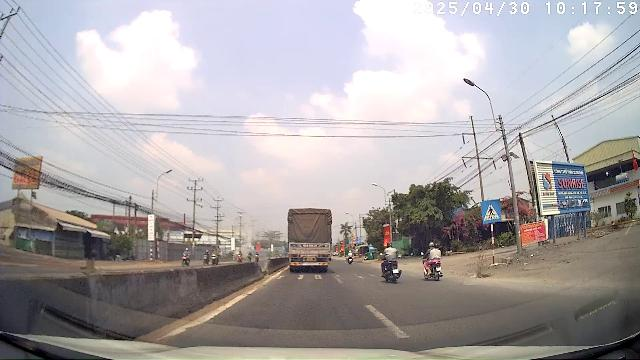423a-duong-nguoi-di-bo-sang-ngang-1: (482, 200, 502, 222)
